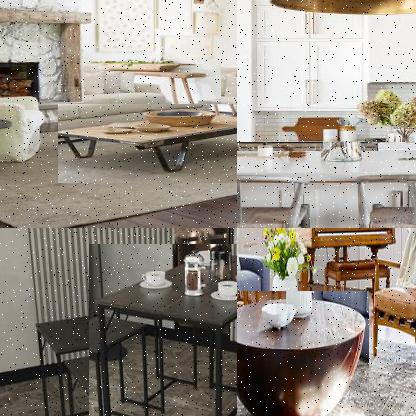table: (88, 244, 236, 415), (237, 291, 369, 415), (237, 142, 415, 227), (57, 104, 236, 185), (83, 62, 221, 120), (0, 115, 25, 187)
